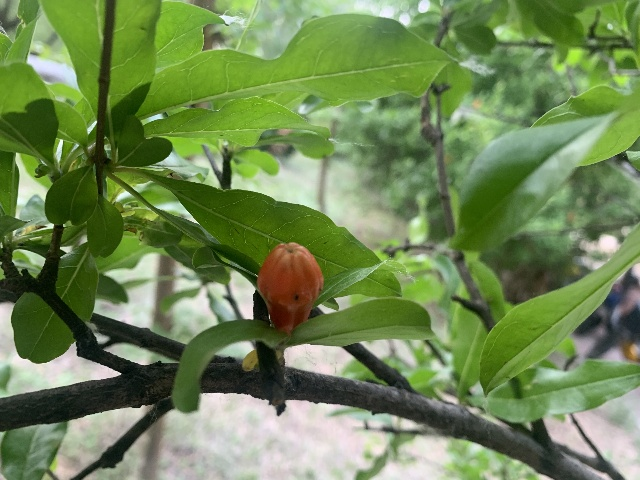bud: (256, 241, 323, 336)
